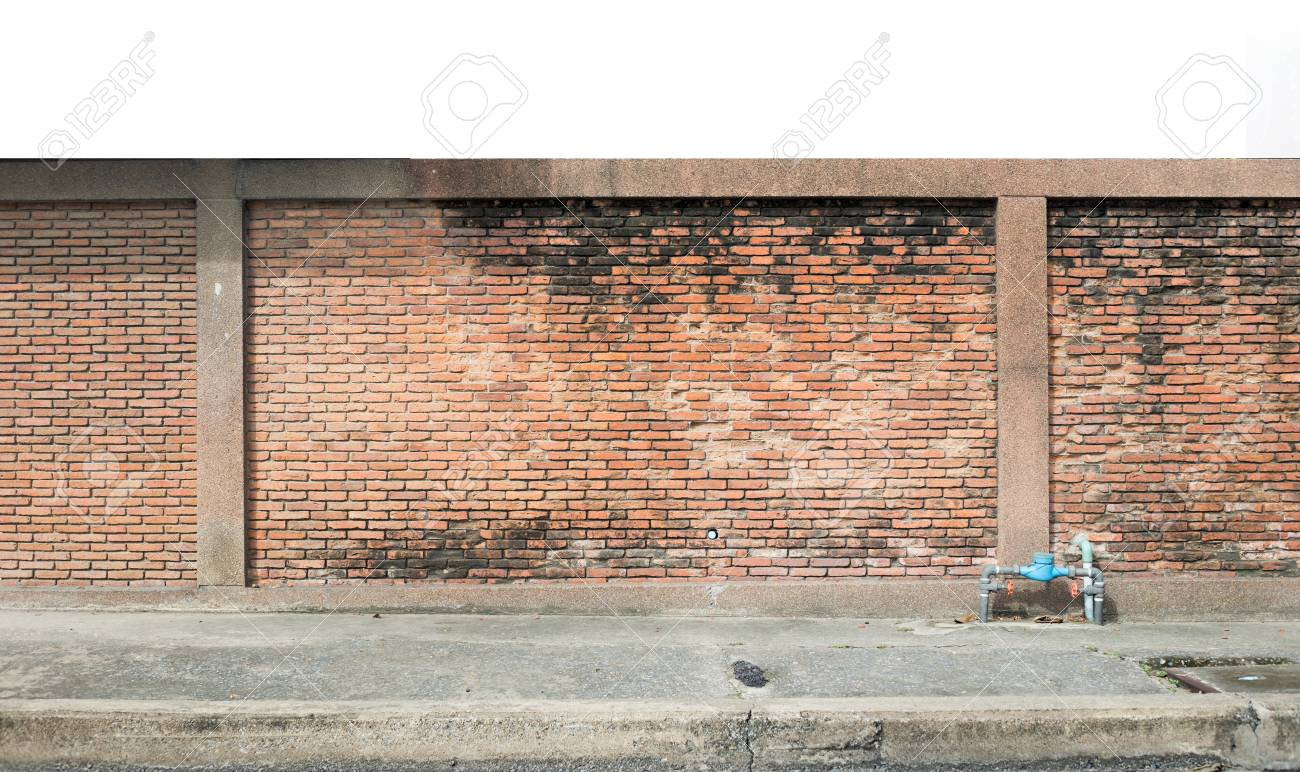Wall: (4, 161, 962, 617)
